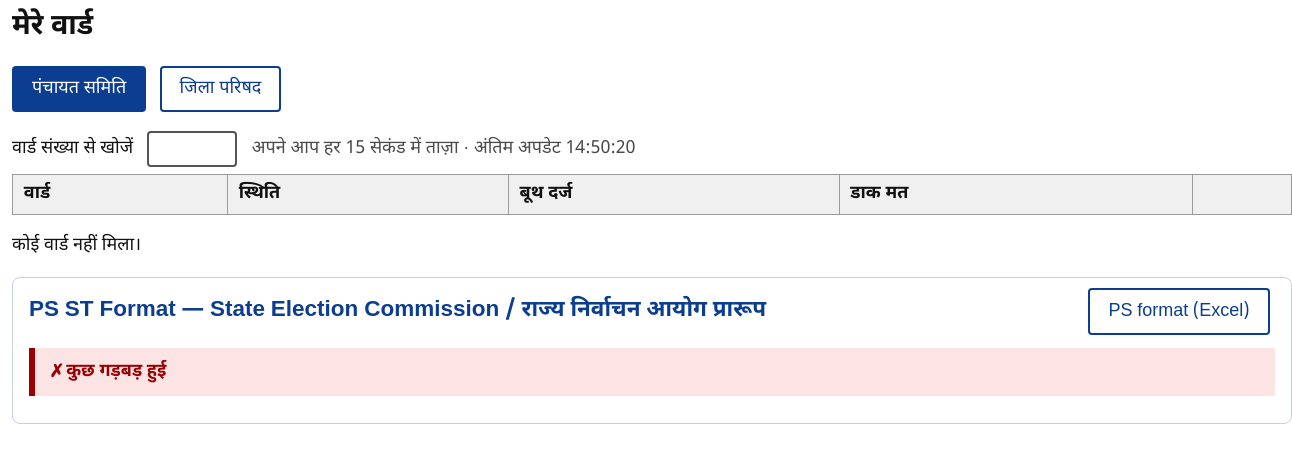
Test: PS_RO tabs › PS tab is the default; the ZP tab is kept in the URL and lists own-PS progress
Click the tab "जिला परिषद". click: (220, 89)
box: x1=160 y1=66 x2=281 y2=112
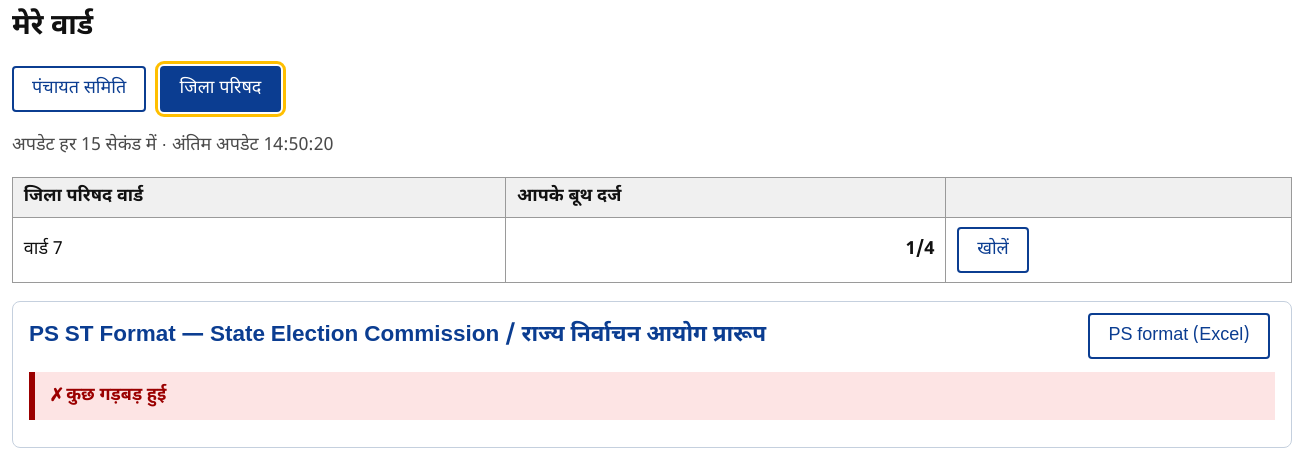
Check: the text "1/4" is shown, box x1=506 y1=217 x2=946 y2=283
